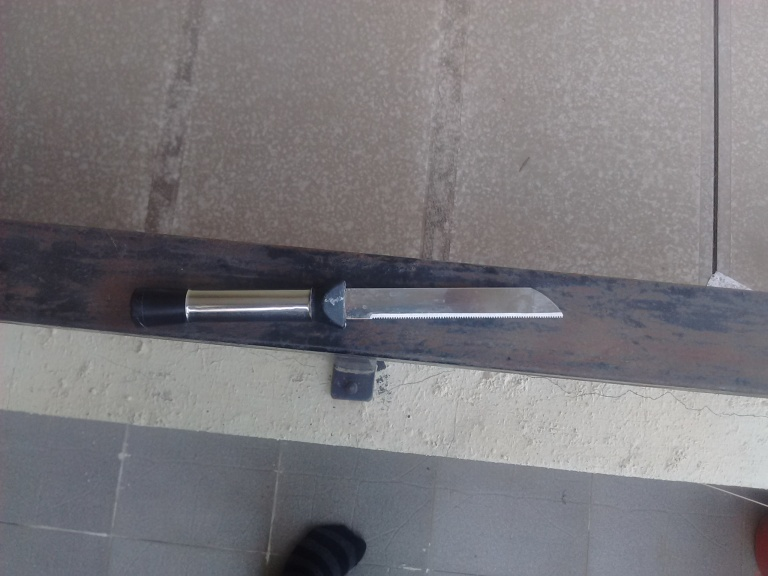knife: (129, 272, 568, 334)
